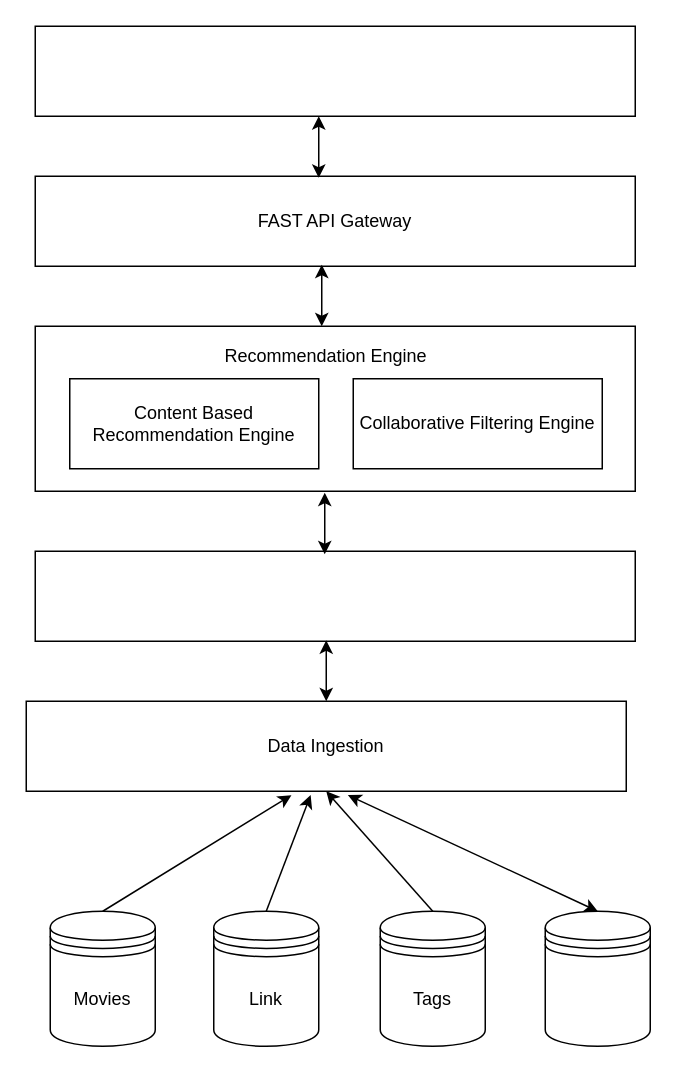
This 677x1073 diagram has some shape labels left out. Each missing label, with the centre of its shape:
"Data Preprocessing" belongs at pixel 334 595.
"Rating" belongs at pixel 597 978.
"User Interface" belongs at pixel 334 70.
